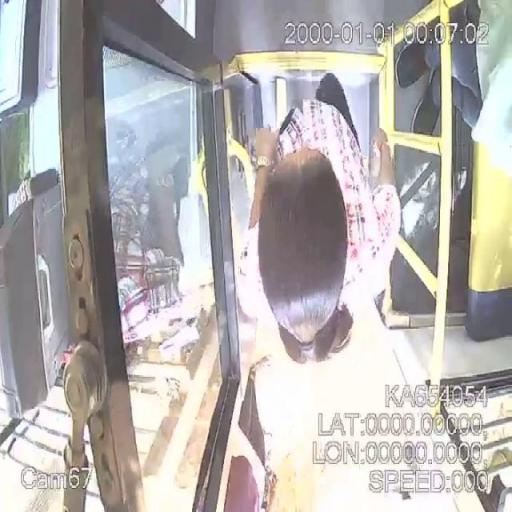persona: (245, 72, 403, 366)
